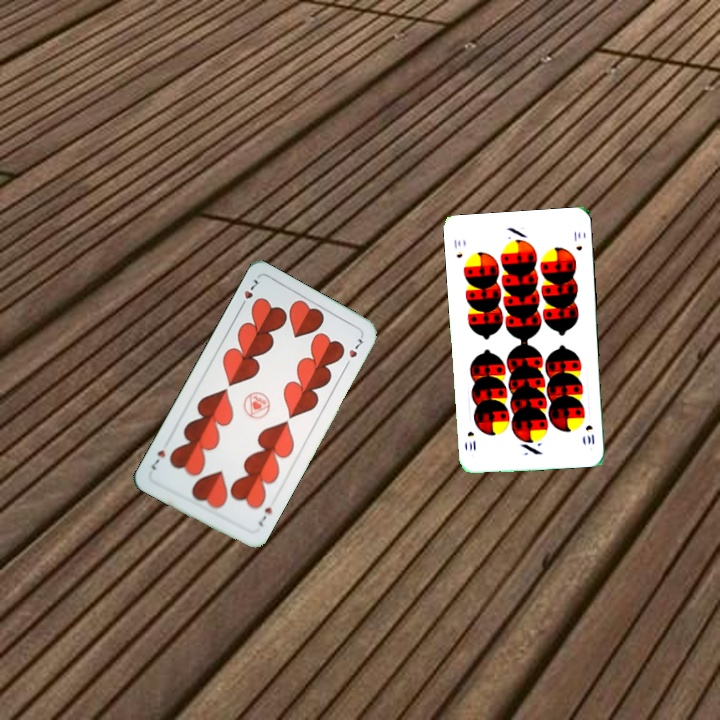H7: (236, 275, 261, 312), (254, 503, 275, 529)
S10: (582, 421, 597, 447), (450, 235, 465, 260)
